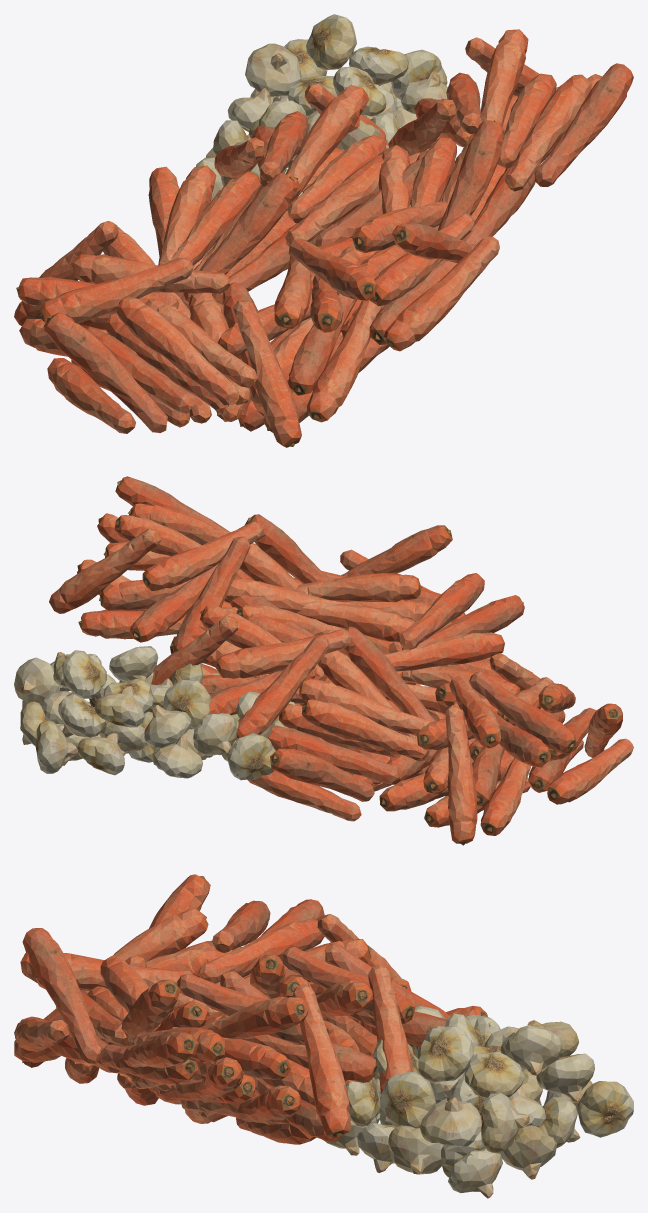
File: P_NEWMaket01_after23.obj
3 renders of one model, top to bottom at view 1: azimuth 30°, elevation 25°; view 2: azimuth 150°, elevation 25°; view 3: azimuth 270°, elevation 25°, orthographic. The views are drawn at different scales.
Size of the model in its own units: 1.42 by 0.6439 by 1.27.
Materials: 5 (5 with a texture image).
